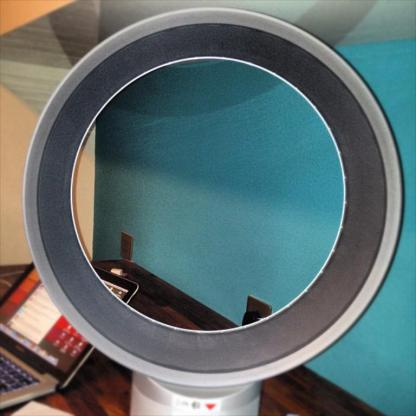board: (0, 260, 136, 411)
